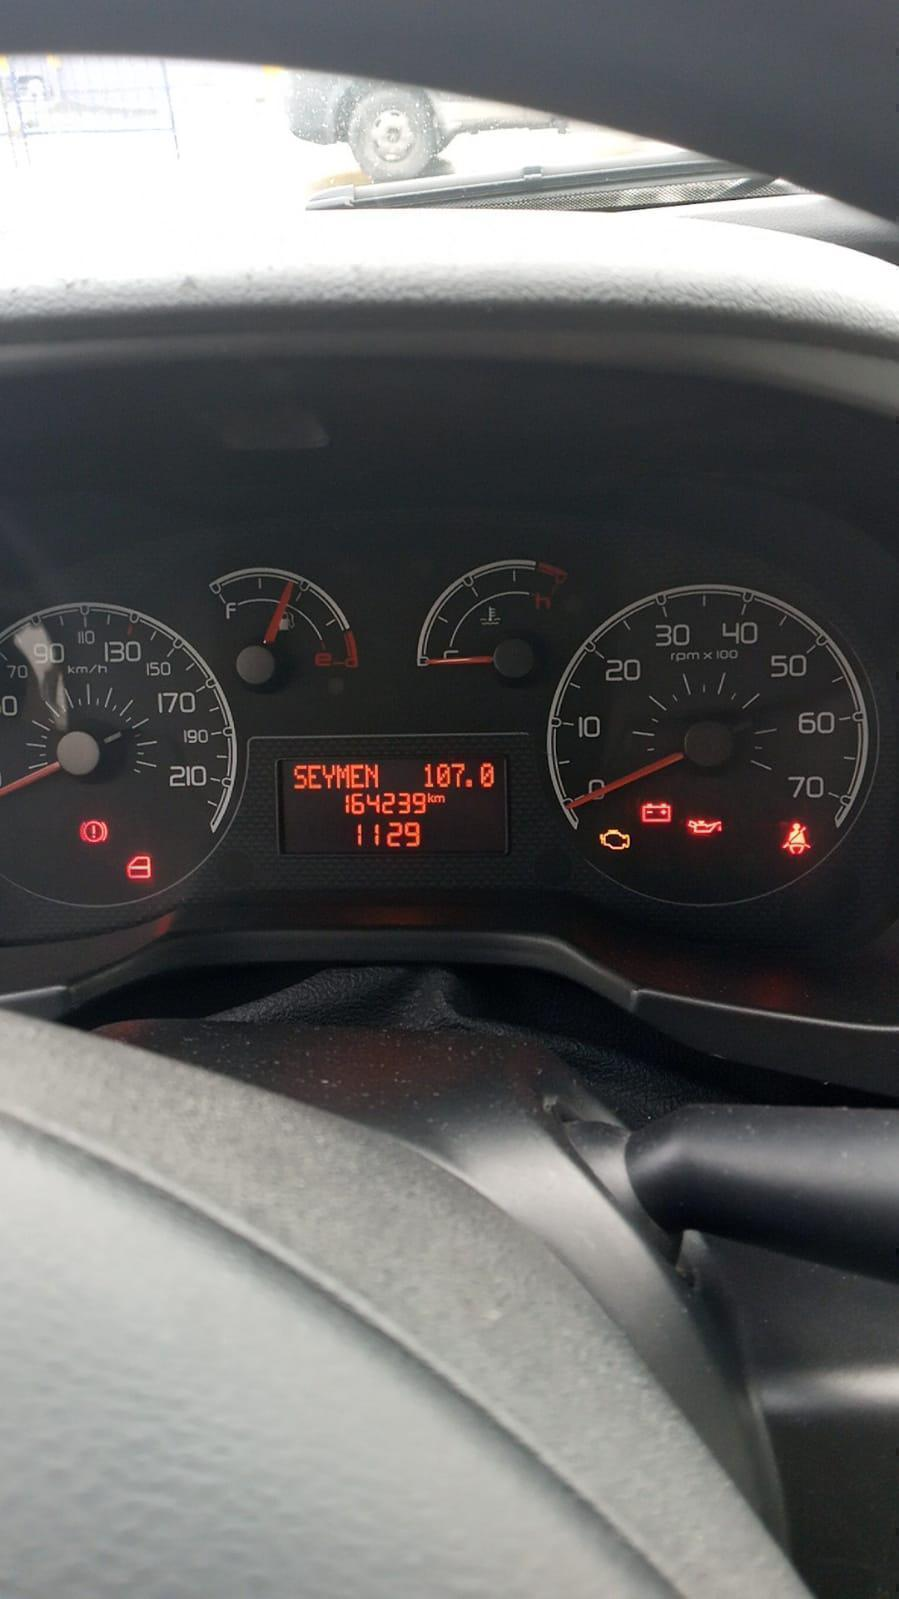,: (464, 775, 473, 790)
0: (479, 759, 495, 790), (436, 761, 451, 789)
1: (424, 762, 435, 789), (355, 821, 364, 848), (342, 792, 351, 817), (374, 818, 381, 850)
2: (387, 821, 400, 851), (382, 791, 395, 814)
3: (398, 790, 411, 815)
4: (366, 793, 380, 814)
6: (351, 791, 363, 814)
7: (451, 761, 464, 789)
9: (403, 821, 420, 850), (412, 792, 426, 815)
X: (293, 763, 307, 790), (336, 763, 350, 789), (322, 763, 335, 790), (350, 763, 363, 790), (308, 763, 321, 790), (366, 763, 378, 789), (434, 794, 446, 803), (426, 791, 434, 804)
odometer: (276, 753, 512, 859)
